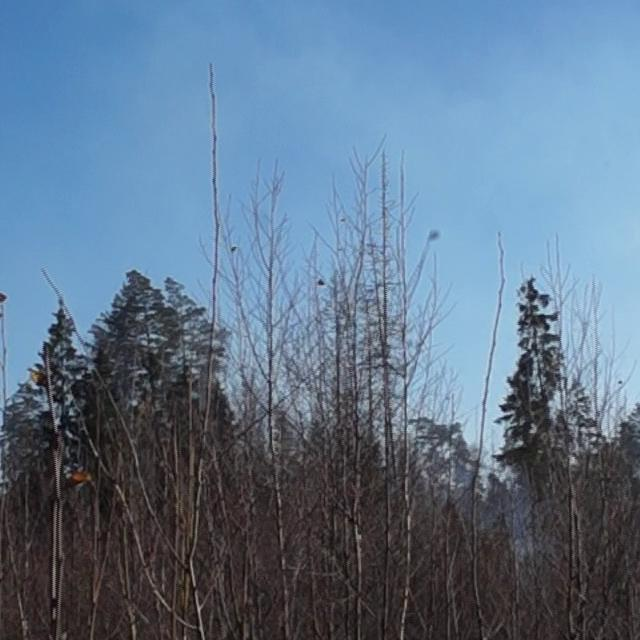Smoke: (480, 458, 556, 588)
